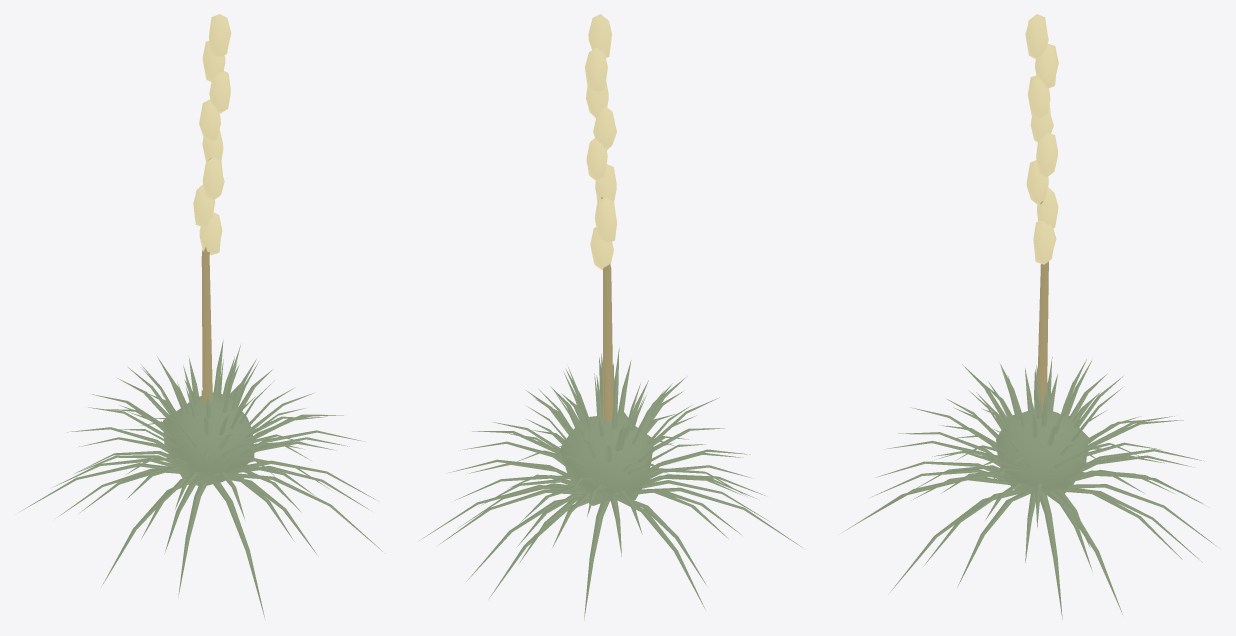
File: Blender_Sotol_1.glb
3 views of the same model, side by side, from view 1: azimuth 30°, elevation 25°; view 2: azimuth 150°, elevation 25°; view 3: azimuth 270°, elevation 25° (orthographic). The views are drawn at different scales.
Visible parts, largest first — view 1: Blender_Sotol_1; view 2: Blender_Sotol_1; view 3: Blender_Sotol_1.
Part boxes in pixels (left/top/right/bottom): Blender_Sotol_1: left=20, top=14, right=385, bottom=619; Blender_Sotol_1: left=419, top=14, right=802, bottom=620; Blender_Sotol_1: left=842, top=14, right=1216, bottom=619.
Size of the model in its own units: 2.87 by 4.76 by 3.03.
